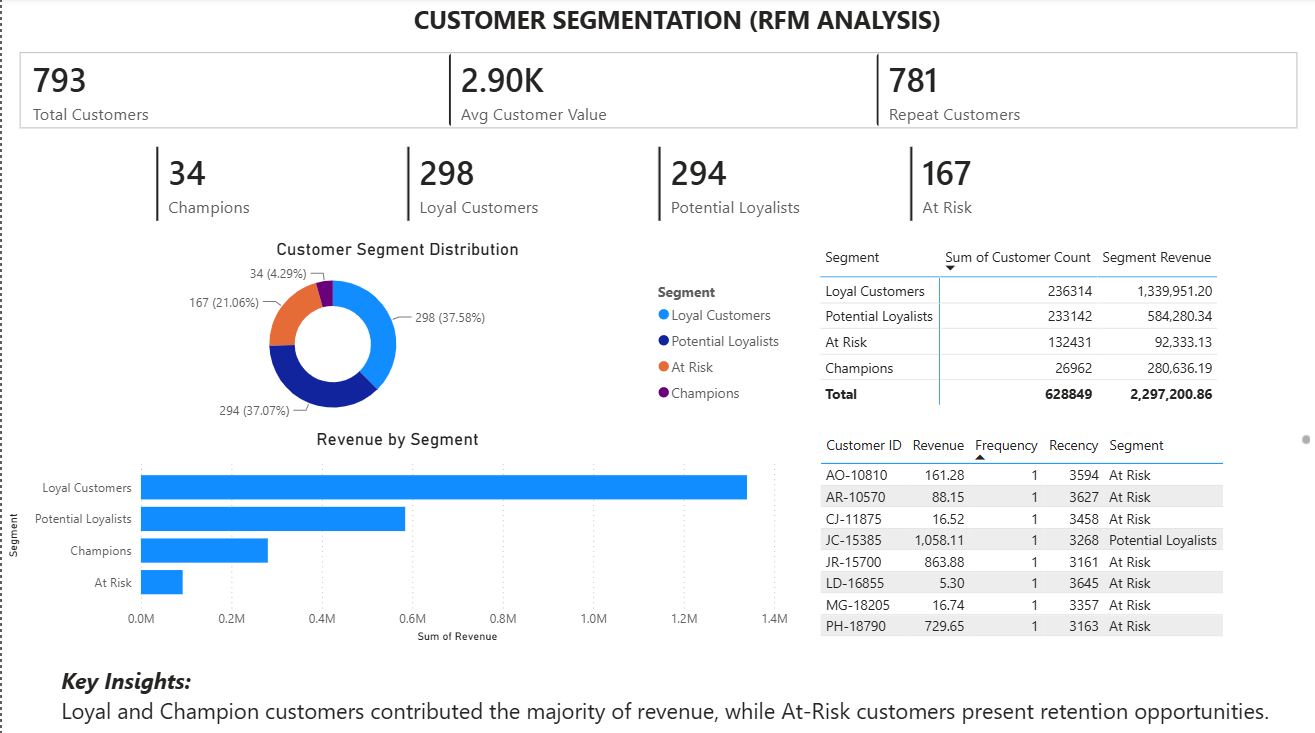

The dashboard page shown, as its layout file describes it:
{"tool":"powerbi","page":{"name":"Page 2","canvas":[1280,720],"ordinal":1},"visuals":[{"type":"textbox","box":[396.4,0,569.6,53.6],"z":0},{"type":"donutChart","title":"Customer Segment Distribution","fields":{"Category":["Customer Summary.Segment"],"Y":["CountNonNull(Customer Summary.Customer ID)"]},"box":[0,235.1,771,185.8],"z":1000},{"type":"clusteredBarChart","title":"Revenue by Segment","fields":{"Y":["Sum(Customer Summary.Revenue)"],"Category":["Customer Summary.Segment"]},"box":[0,420.8,771,212.1],"z":2000},{"type":"tableEx","fields":{"Values":["Customer Summary.Customer ID","Customer Summary.Revenue","Customer Summary.Frequency","Customer Summary.Recency","Customer Summary.Segment"]},"box":[792.3,420.8,488.2,212.1],"z":3000},{"type":"pivotTable","fields":{"Rows":["Customer Summary.Segment"],"Values":["Sum(Customer Summary.Customer Count)","Customer Summary.Segment Revenue"]},"box":[792.3,235.1,488.2,185.8],"z":4000},{"type":"cardVisual","fields":{"Data":["Customer Summary.Champions","Customer Summary.Loyal Customers","Customer Summary.Potential Loyalists","Customer Summary.At Risk"]},"box":[133.2,128.2,1014.3,106.9],"z":5000},{"type":"cardVisual","fields":{"Data":["Customer Summary.Total Customers","Customer Summary.Avg Customer Value","Customer Summary.Repeat Customers"]},"box":[0,36.2,1280.6,108.5],"z":6000},{"type":"textbox","box":[52.6,646,1195.1,74],"z":7000}]}

Visuals, with their boxes in screenshot pixels (x1, y1, x2, y2), scaled from the page's 1280x720 canvas onto the 1315x733 screenshot:
textbox: bbox=[407, 0, 992, 55]
"Customer Segment Distribution" donutChart: bbox=[0, 239, 792, 428]
"Revenue by Segment" clusteredBarChart: bbox=[0, 428, 792, 644]
tableEx - Customer Summary.Customer ID x Customer Summary.Revenue: bbox=[814, 428, 1314, 644]
pivotTable - Customer Summary.Segment x Sum(Customer Summary.Customer Count): bbox=[814, 239, 1314, 428]
cardVisual - Customer Summary.Champions x Customer Summary.Loyal Customers: bbox=[137, 131, 1179, 239]
cardVisual - Customer Summary.Total Customers x Customer Summary.Avg Customer Value: bbox=[0, 37, 1314, 147]
textbox: bbox=[54, 658, 1282, 732]
